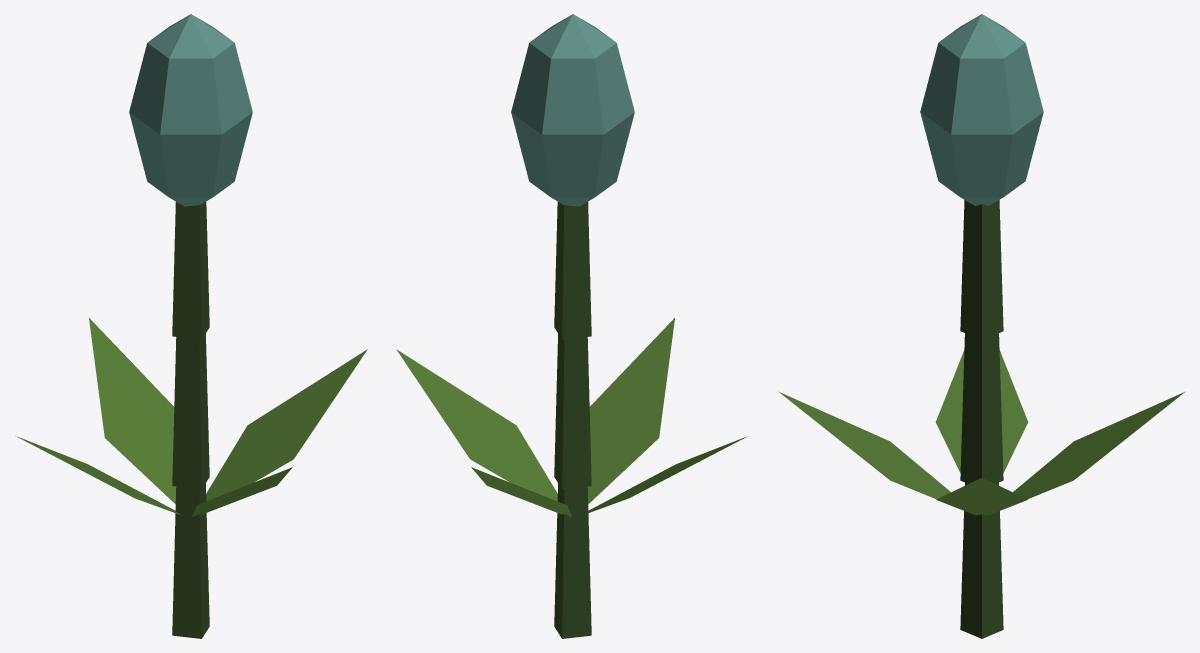
The model's file is crop_moonflower_stage1.glb.
The picture shows the model from 3 angles, left to right: view 1: azimuth 30°, elevation 25°; view 2: azimuth 150°, elevation 25°; view 3: azimuth 270°, elevation 25°; orthographic projection.
Parts seen in each view (by area): view 1: Crop; view 2: Crop; view 3: Crop.
Part boxes in pixels (<box>): Crop: <box>16,14,367,638</box>; Crop: <box>396,14,747,638</box>; Crop: <box>778,14,1185,638</box>.
Size of the model in its own units: 0.2641 by 0.44 by 0.2641.
